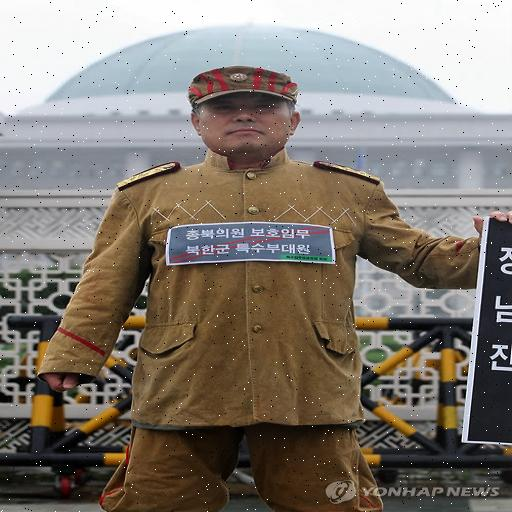north army: (103, 63, 444, 512)
